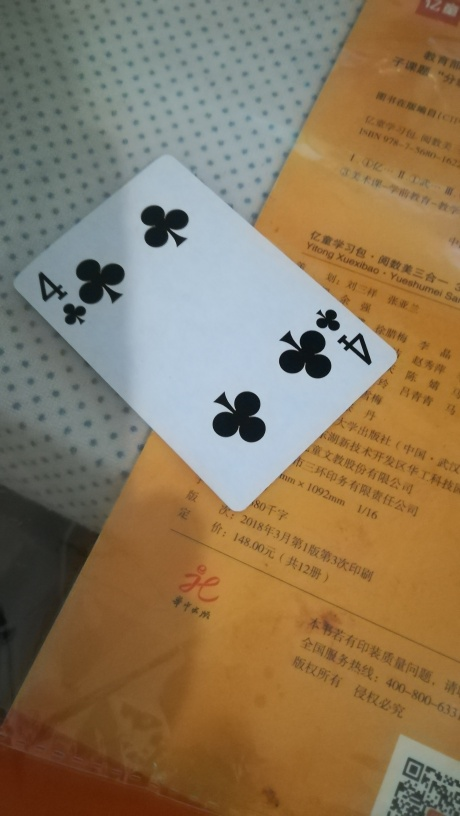mh 4: (15, 152, 399, 508)
